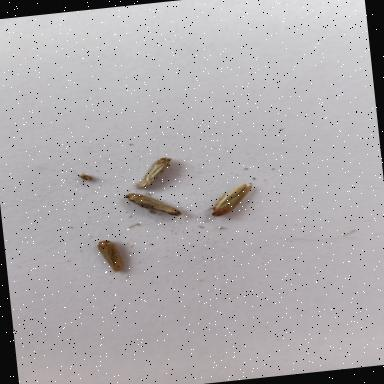pbw: (120, 189, 181, 220), (204, 182, 256, 218), (130, 156, 172, 188), (92, 240, 128, 274)
